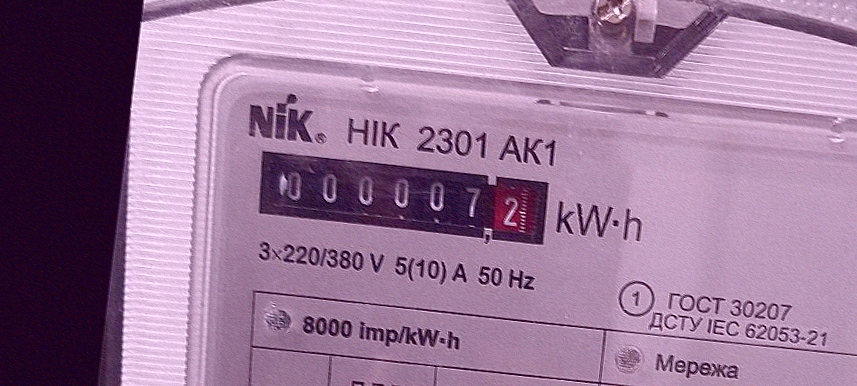0: (351, 169, 378, 209), (280, 165, 306, 203), (423, 175, 448, 214), (389, 173, 413, 212), (317, 168, 341, 205)
2: (497, 191, 523, 230)
7: (458, 181, 484, 221)
screen: (248, 139, 559, 255)
